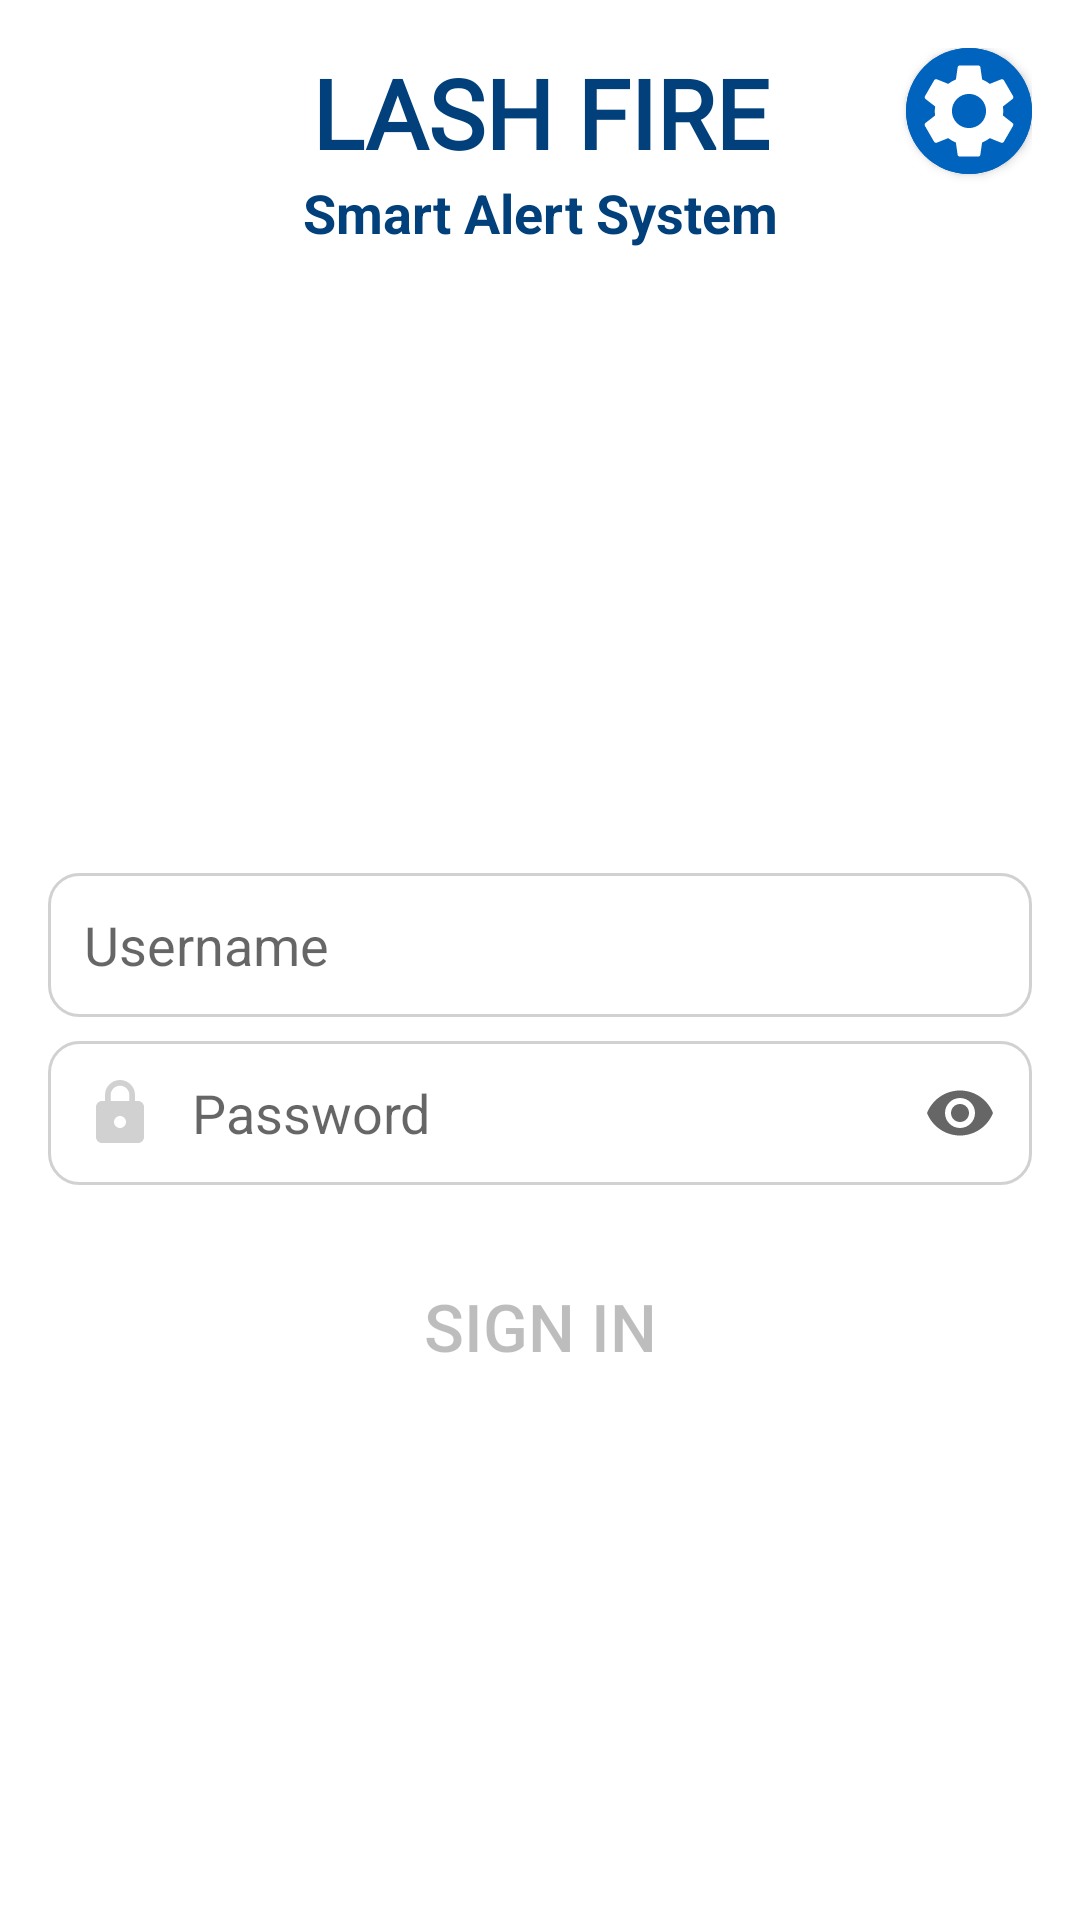

Screen size 1080px×1920px. Icon name, then its box in pixels as Rect(x1, y1, x2, y2):
settings: Rect(906, 48, 1032, 174)
